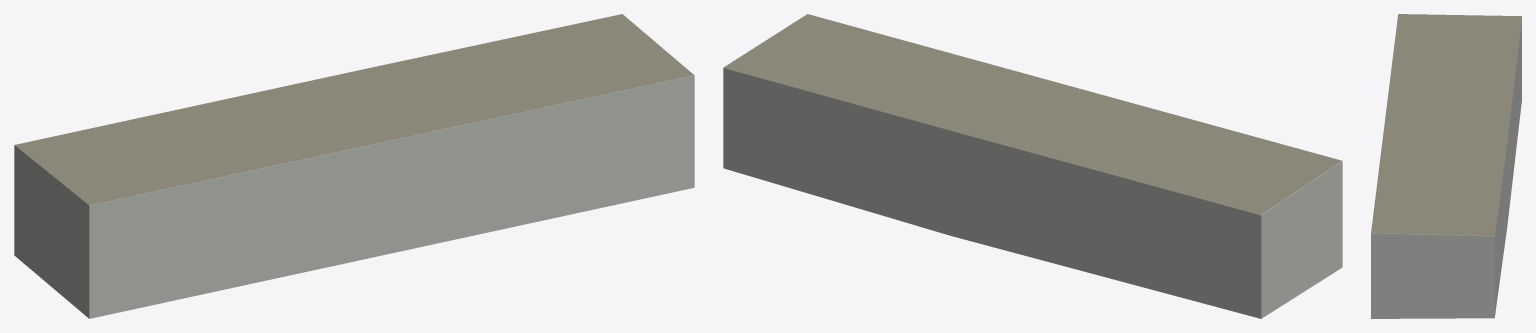
The model's file is intact.glb.
The picture shows the model from 3 angles, left to right: view 1: azimuth 30°, elevation 25°; view 2: azimuth 150°, elevation 25°; view 3: azimuth 270°, elevation 25°; orthographic projection. The views are drawn at different scales.
Visible parts, largest first — view 1: SM_liberal_Intact_00; view 2: SM_liberal_Intact_00; view 3: SM_liberal_Intact_00.
Part boxes in pixels (x1,y1,x2,y2): SM_liberal_Intact_00: (14,14,694,318); SM_liberal_Intact_00: (723,14,1342,318); SM_liberal_Intact_00: (1371,14,1521,318).
Bounding box in the file's own units: 2.2 × 0.4002 × 0.631.
